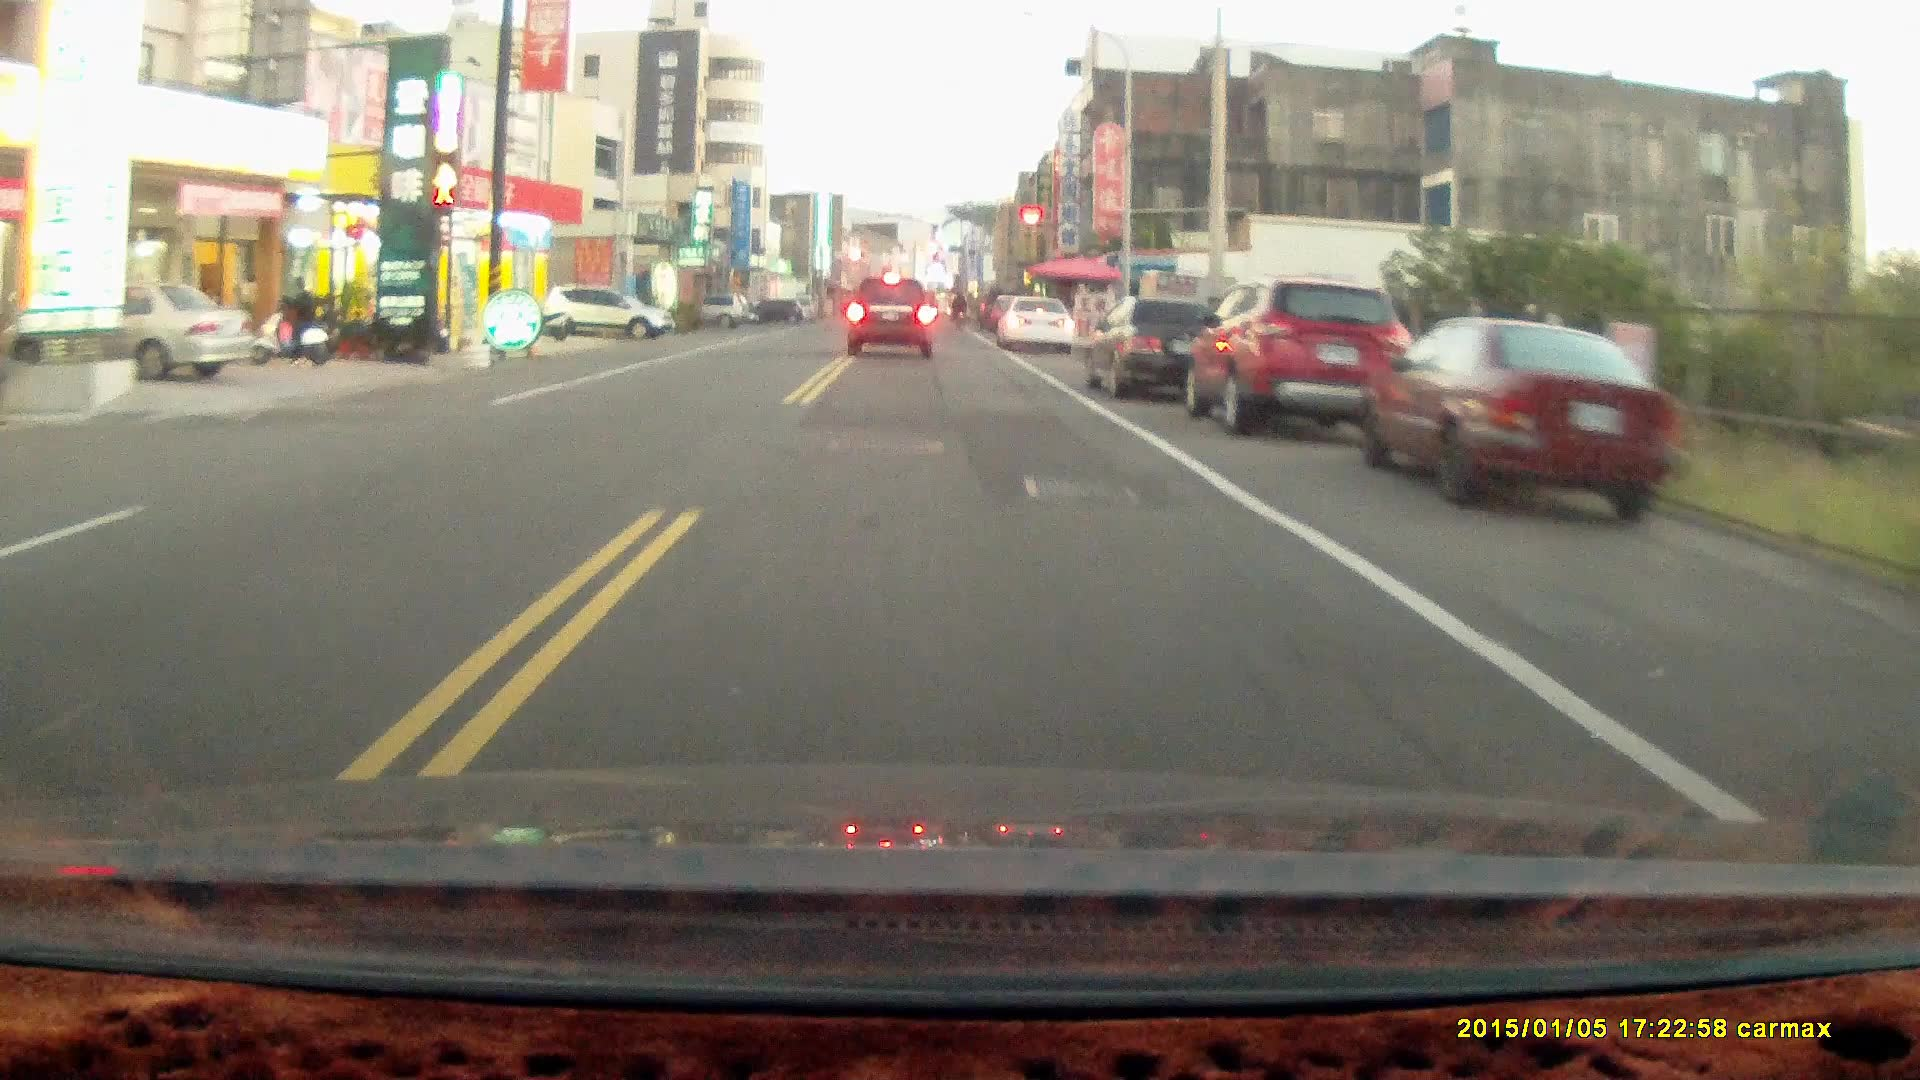vehicle: (1358, 316, 1688, 529), (1191, 276, 1427, 436), (34, 285, 255, 386), (1085, 295, 1236, 401), (545, 285, 676, 345), (847, 280, 938, 363), (998, 295, 1077, 353)
